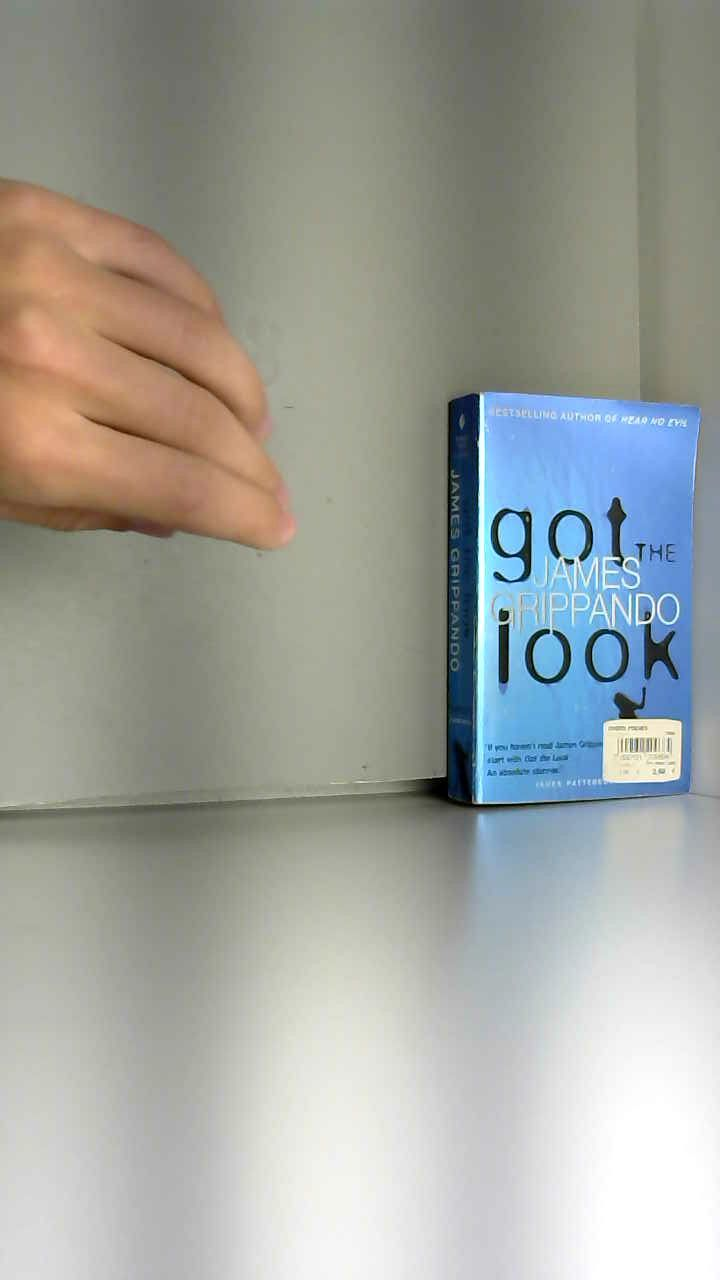book: (404, 346, 720, 849)
